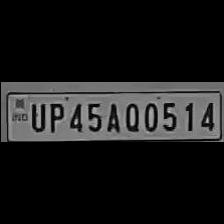0: (140, 100, 158, 132)
1: (180, 99, 196, 131)
4: (196, 98, 216, 132), (65, 99, 83, 133)
5: (82, 99, 102, 133), (159, 98, 179, 132)
A: (103, 99, 121, 133)
P: (45, 99, 63, 133)
Q: (122, 100, 140, 134)
U: (27, 100, 46, 132)
